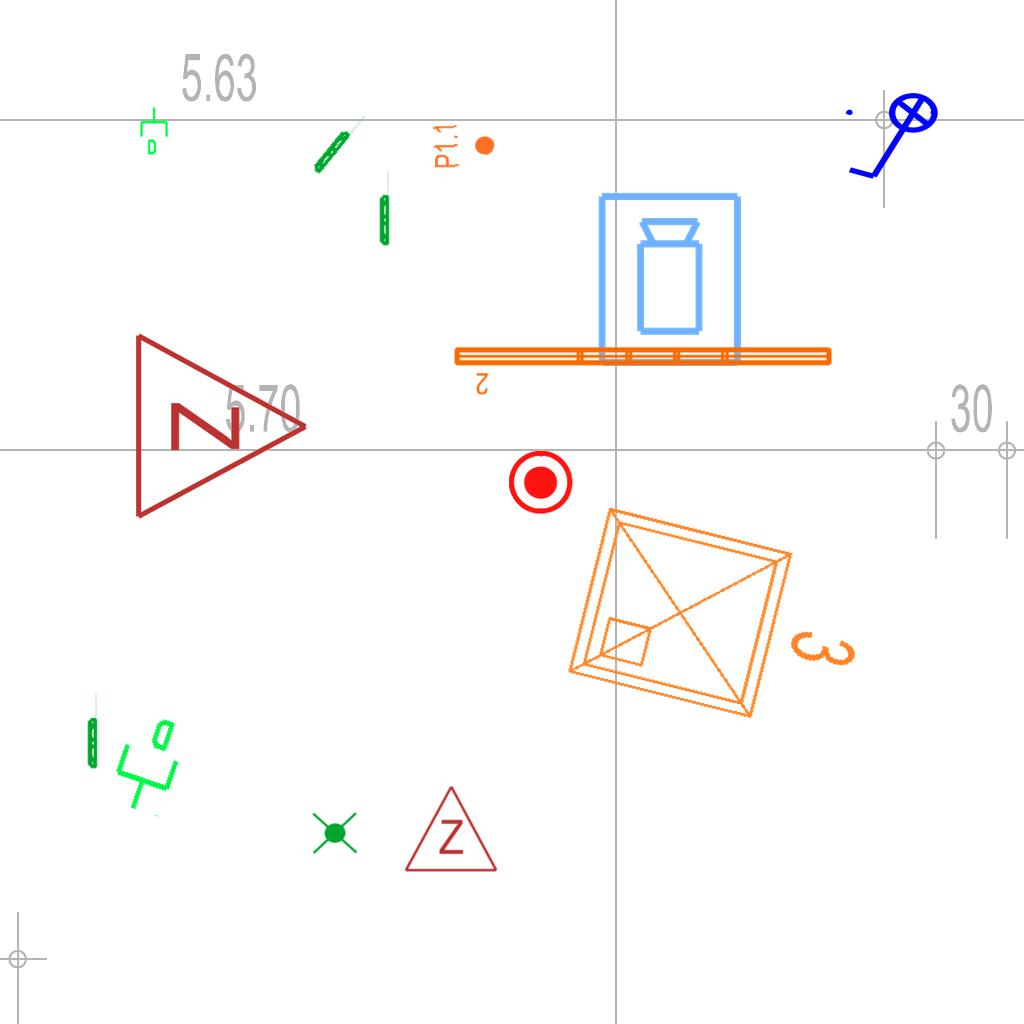Ambulanz_Pendelleuchte_LED: (450, 341, 837, 397)
Ausschalter_beleuchtet: (840, 91, 952, 187)
Datenanschluss_einfach: (97, 704, 196, 822), (138, 106, 172, 156)
Downlight_LED_Einbauleuchten_Flur_2: (430, 120, 498, 170)
Einbaudownlights_LED_Konferenzraeume: (550, 481, 892, 757)
KFO_Kamera_mit_Festobjektiv: (594, 189, 748, 371)
Notlichtbaustein_in_Allgemeinbeleuchtug_engebaut_Einbau_(1UG_und_2UG_Aufbauvaria: (310, 807, 360, 858)
Sicherheitsleuchte_Wandeinbau: (309, 107, 369, 176), (86, 691, 98, 770), (378, 168, 390, 247)
Taster: (509, 450, 575, 516)
Zimmersignalleuchte: (121, 326, 321, 522), (401, 779, 499, 879)
